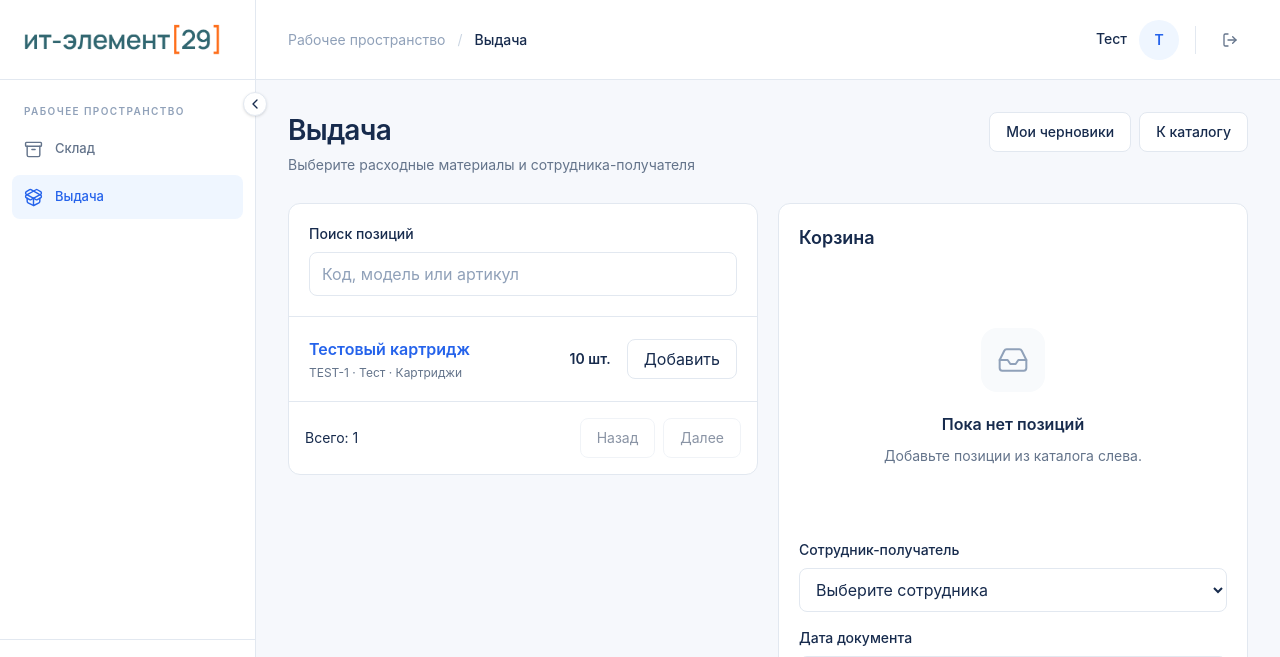
Test: конфликт остатка сохраняет корзину и показывает доступное количество
Click the button with aria-label "Добавить в корзину TEST-1" at x=682, y=359, box [627, 339, 737, 379]
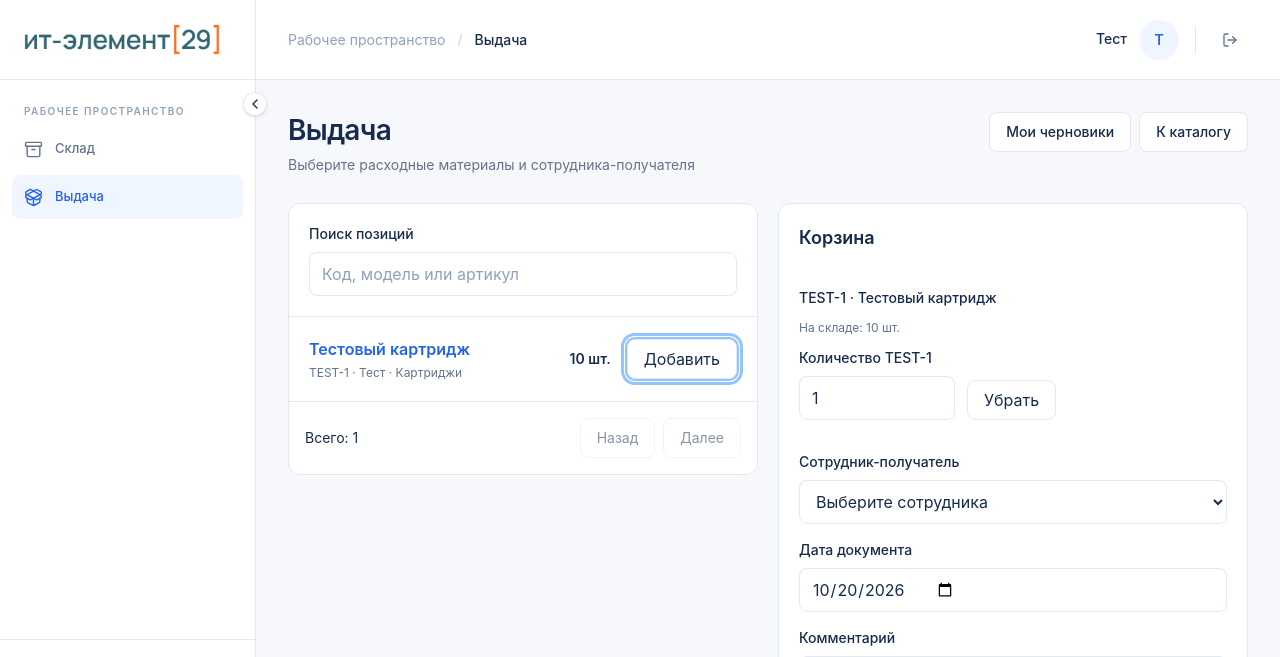
Replace the text in the number field labelled "Количество TEST-1" with "3" at x=877, y=398, box [799, 376, 955, 420]
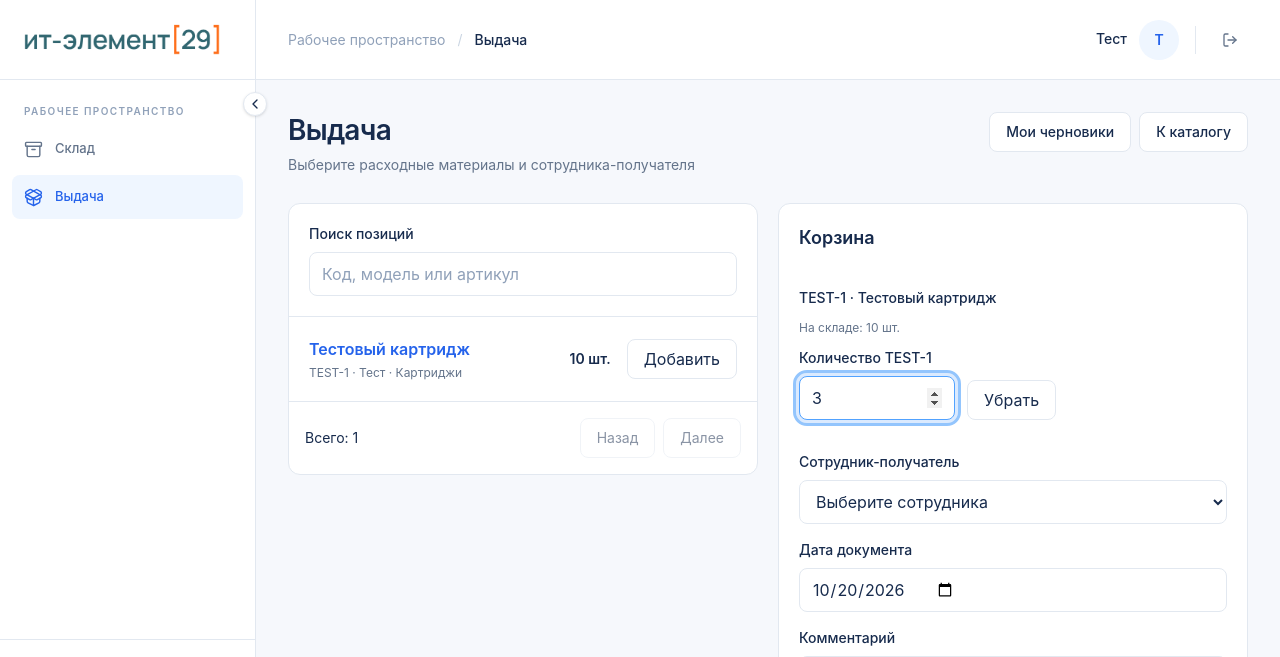
Select "Получатель · 001 · Отдел" in the dropdown labelled "Сотрудник-получатель" at x=1013, y=502, box [799, 480, 1227, 524]
(page scrolled)
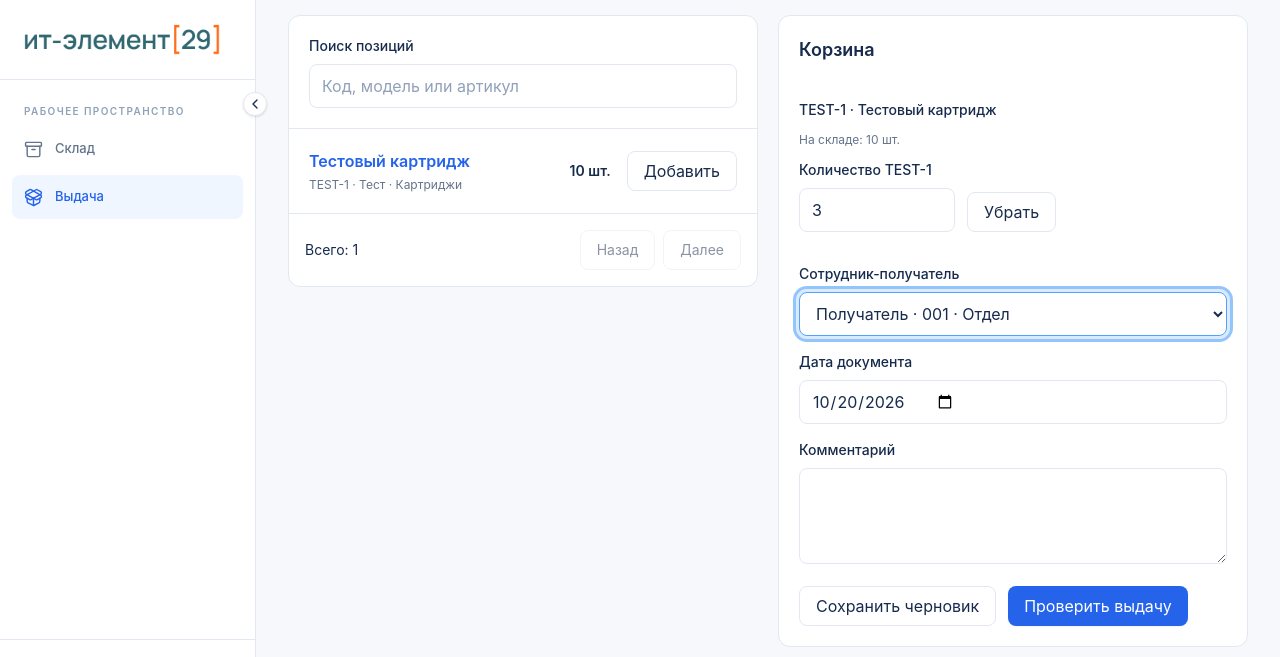
Click the button "Проверить выдачу" at x=1098, y=606, box [1008, 586, 1188, 626]
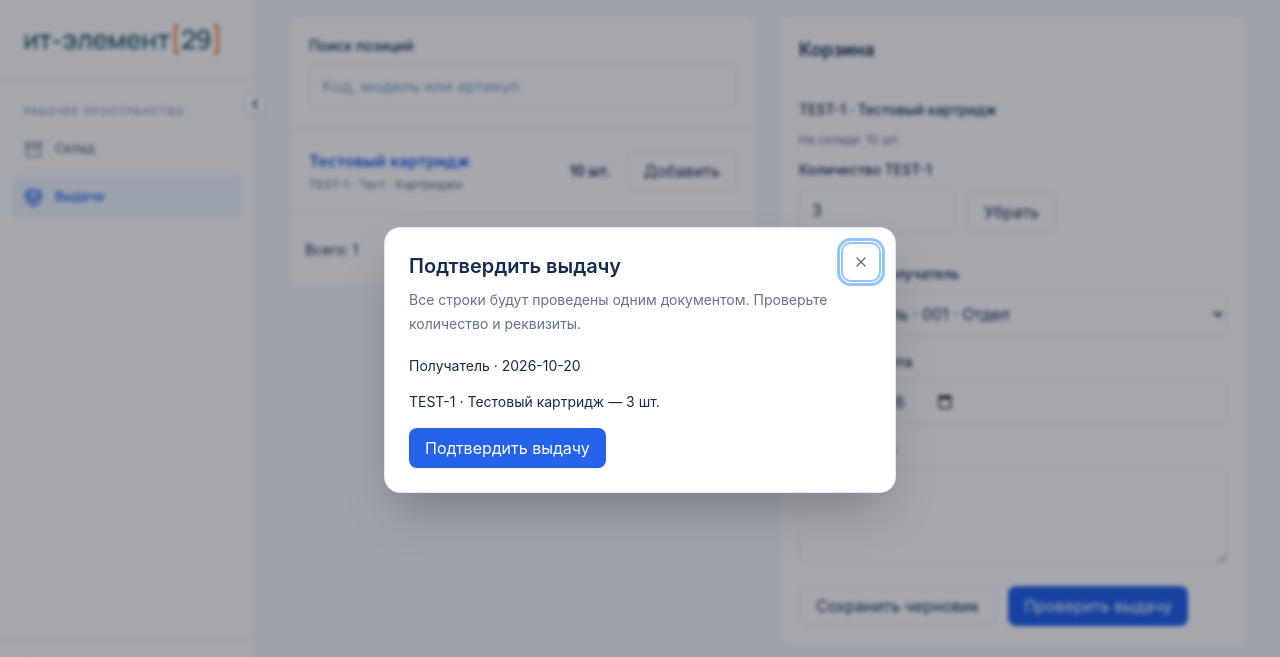
Click the button "Подтвердить выдачу" at x=507, y=448, box [409, 428, 606, 468]
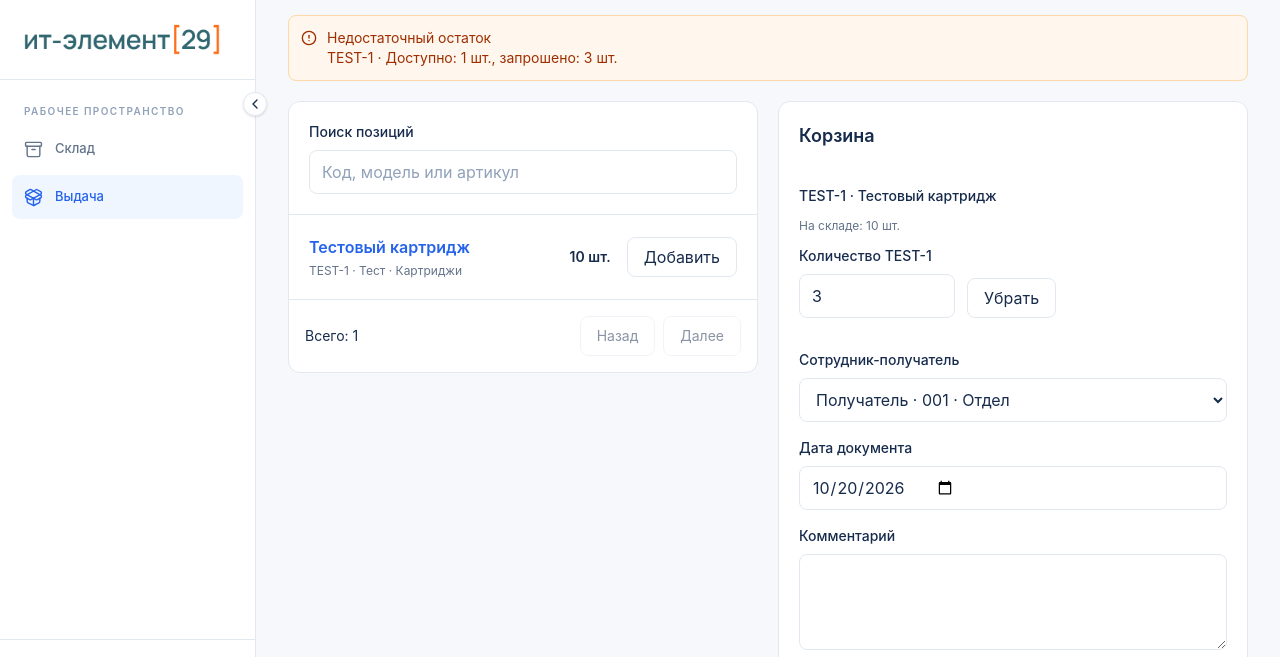
Now the number field labelled "Количество TEST-1" is enabled, box [799, 274, 955, 318]
Now the text "TEST-1 · Доступно: 1 шт., запрошено: 3 шт." is shown, box [327, 48, 618, 68]
